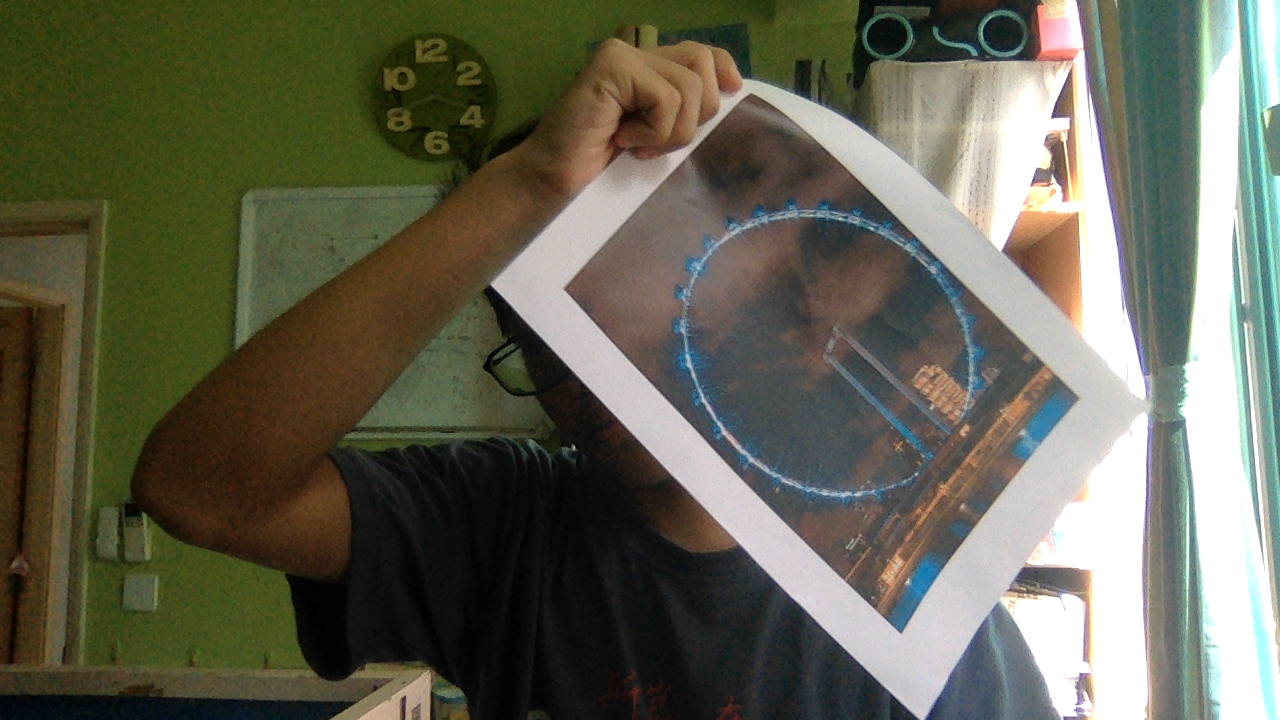Flyer: (626, 140, 1049, 610)
